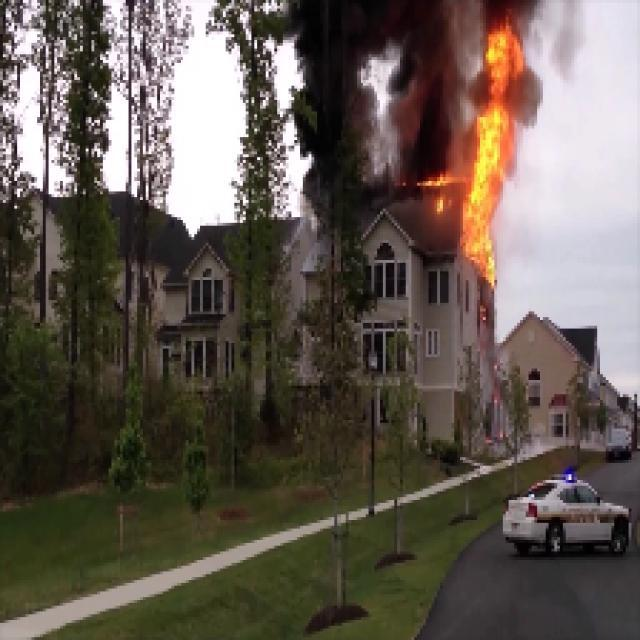Fire: (460, 18, 526, 268)
Smoke: (285, 6, 446, 162)
